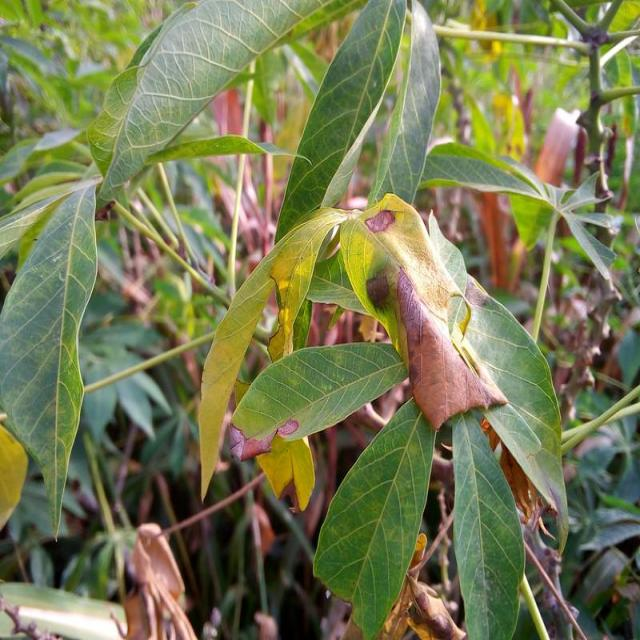cassava leaf: (86, 0, 332, 207), (0, 177, 98, 539), (272, 0, 407, 245), (312, 396, 436, 638), (230, 339, 408, 443), (450, 407, 526, 638)
